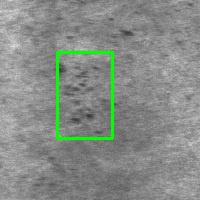rolled-in_scale: (57, 52, 112, 138)
